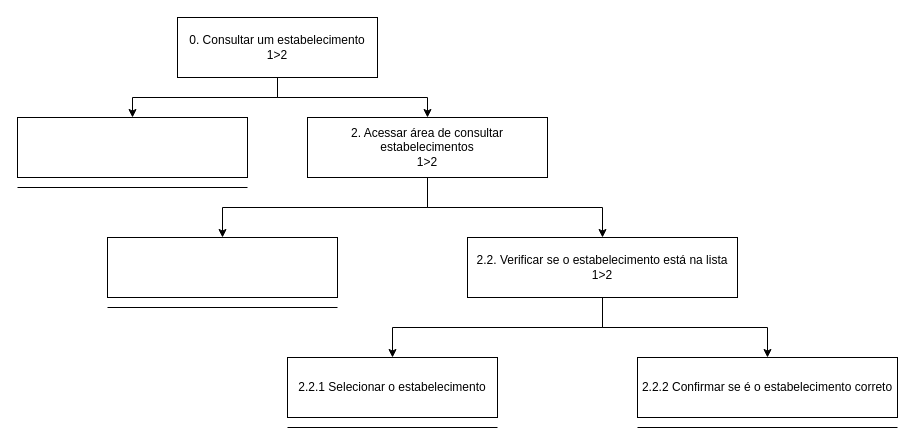
Some shapes in this 916 by 446 pixel diagram are drawn without their labels. The centre of each missing label's shape, as x and y in pixels:
1. Pesquisar dados do estabelecimento: the point at 132,147
2.1. Informar dados do estabelecimento: the point at 222,267
